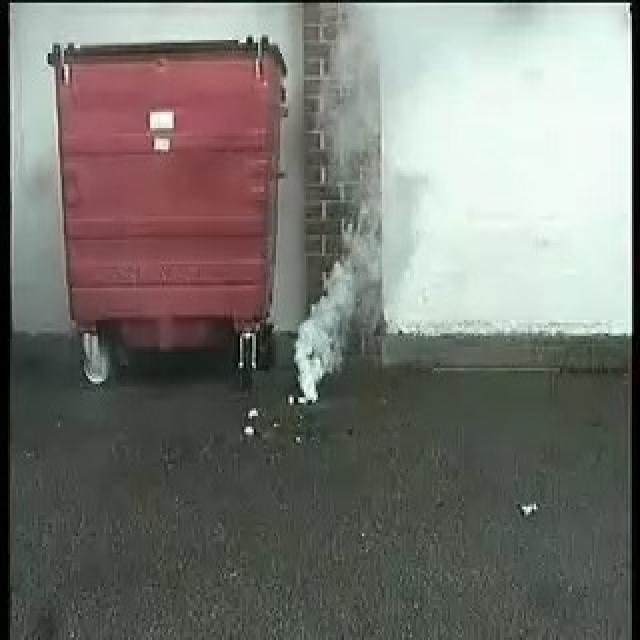Smoke: (294, 63, 408, 400)
